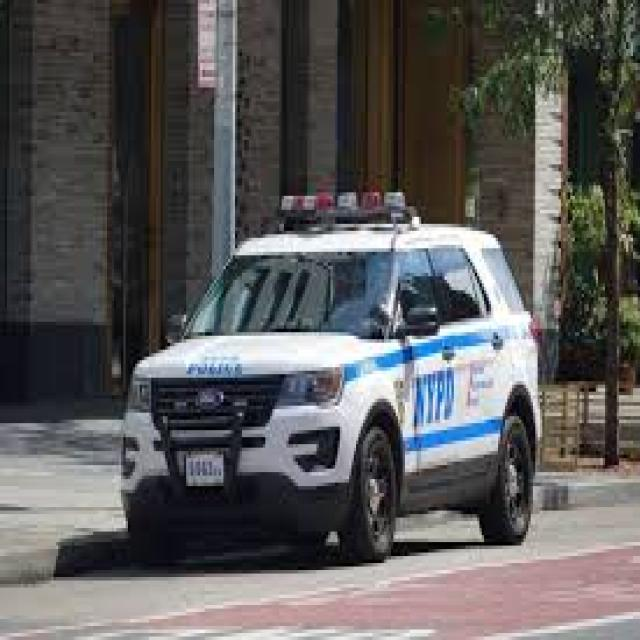cop: (120, 190, 542, 556)
